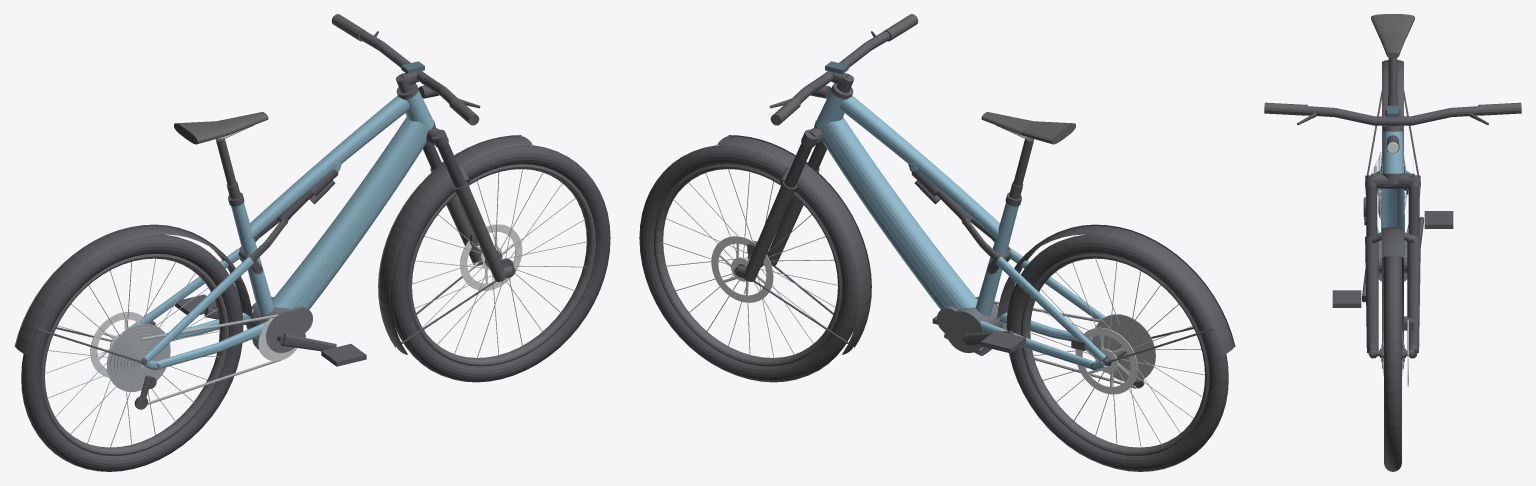
Rendered from ebike-mtb-aventon-current-rec.glb.
3 renders of one model, left to right at view 1: azimuth 30°, elevation 25°; view 2: azimuth 150°, elevation 25°; view 3: azimuth 270°, elevation 25°, orthographic. The views are drawn at different scales.
Visible parts, largest first — view 1: rear_wheel_tire, front_wheel_tire, accessories_fenders, frame_downtube, front_wheel_rim, rear_wheel_rim, frame_toptube, drivetrain_cassette, fork_lowers, front_wheel_spokes, rear_seatstays, drivetrain_crankset (+13 smaller); view 2: rear_wheel_tire, front_wheel_tire, accessories_fenders, frame_downtube, front_wheel_rim, rear_wheel_rim, frame_toptube, fork_lowers, drivetrain_cassette, rear_seatstays, front_wheel_spokes, rear_wheel_spokes (+12 smaller); view 3: front_wheel_tire, fork_lowers, accessories_fenders, cockpit_riser_bar, saddle_shell, drivetrain_crankset, fork_stanchions, frame_downtube, cockpit_grips, frame_headtube, fork_crown, seatpost_dropper_upper (+1 smaller).
Boxes of the visible parts, box(x1,y1,x2,y2) form: rear_wheel_tire: box(21, 234, 243, 471); front_wheel_tire: box(391, 145, 610, 382); accessories_fenders: box(14, 135, 532, 364); frame_downtube: box(272, 117, 430, 309); front_wheel_rim: box(408, 164, 595, 366); rear_wheel_rim: box(40, 254, 228, 455); frame_toptube: box(250, 95, 409, 238); drivetrain_cassette: box(107, 323, 170, 391); fork_lowers: box(430, 160, 515, 281); front_wheel_spokes: box(412, 169, 587, 358); rear_seatstays: box(122, 249, 253, 369); drivetrain_crankset: box(174, 294, 366, 366); rear_wheel_tire: box(1006, 234, 1228, 471); front_wheel_tire: box(639, 145, 858, 382); accessories_fenders: box(717, 135, 1235, 364); frame_downtube: box(819, 117, 977, 309); front_wheel_rim: box(654, 164, 841, 366); rear_wheel_rim: box(1021, 254, 1209, 455); frame_toptube: box(840, 95, 999, 238); fork_lowers: box(734, 160, 819, 281); drivetrain_cassette: box(1092, 314, 1155, 381); rear_seatstays: box(996, 249, 1106, 369); front_wheel_spokes: box(661, 169, 837, 357); rear_wheel_spokes: box(1028, 258, 1204, 447); front_wheel_tire: box(1384, 256, 1401, 471); fork_lowers: box(1365, 228, 1420, 358); accessories_fenders: box(1365, 60, 1420, 368); cockpit_riser_bar: box(1299, 106, 1486, 125); saddle_shell: box(1371, 14, 1414, 57); drivetrain_crankset: box(1332, 211, 1453, 307); fork_stanchions: box(1366, 186, 1419, 236); frame_downtube: box(1380, 163, 1405, 256); cockpit_grips: box(1264, 102, 1521, 115); frame_headtube: box(1382, 131, 1403, 173); fork_crown: box(1365, 173, 1420, 188); seatpost_dropper_upper: box(1388, 57, 1397, 96).
Bounding box in the file's own units: 1.94 × 1.06 × 0.7833.
